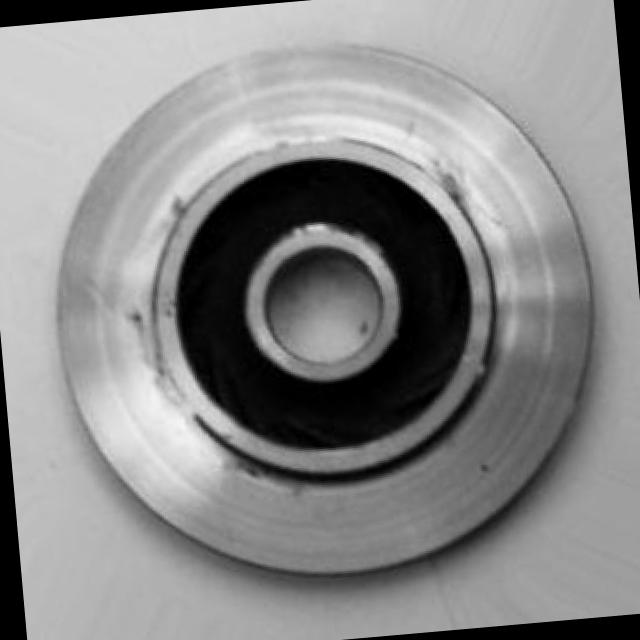Defect: (430, 158, 471, 209)
